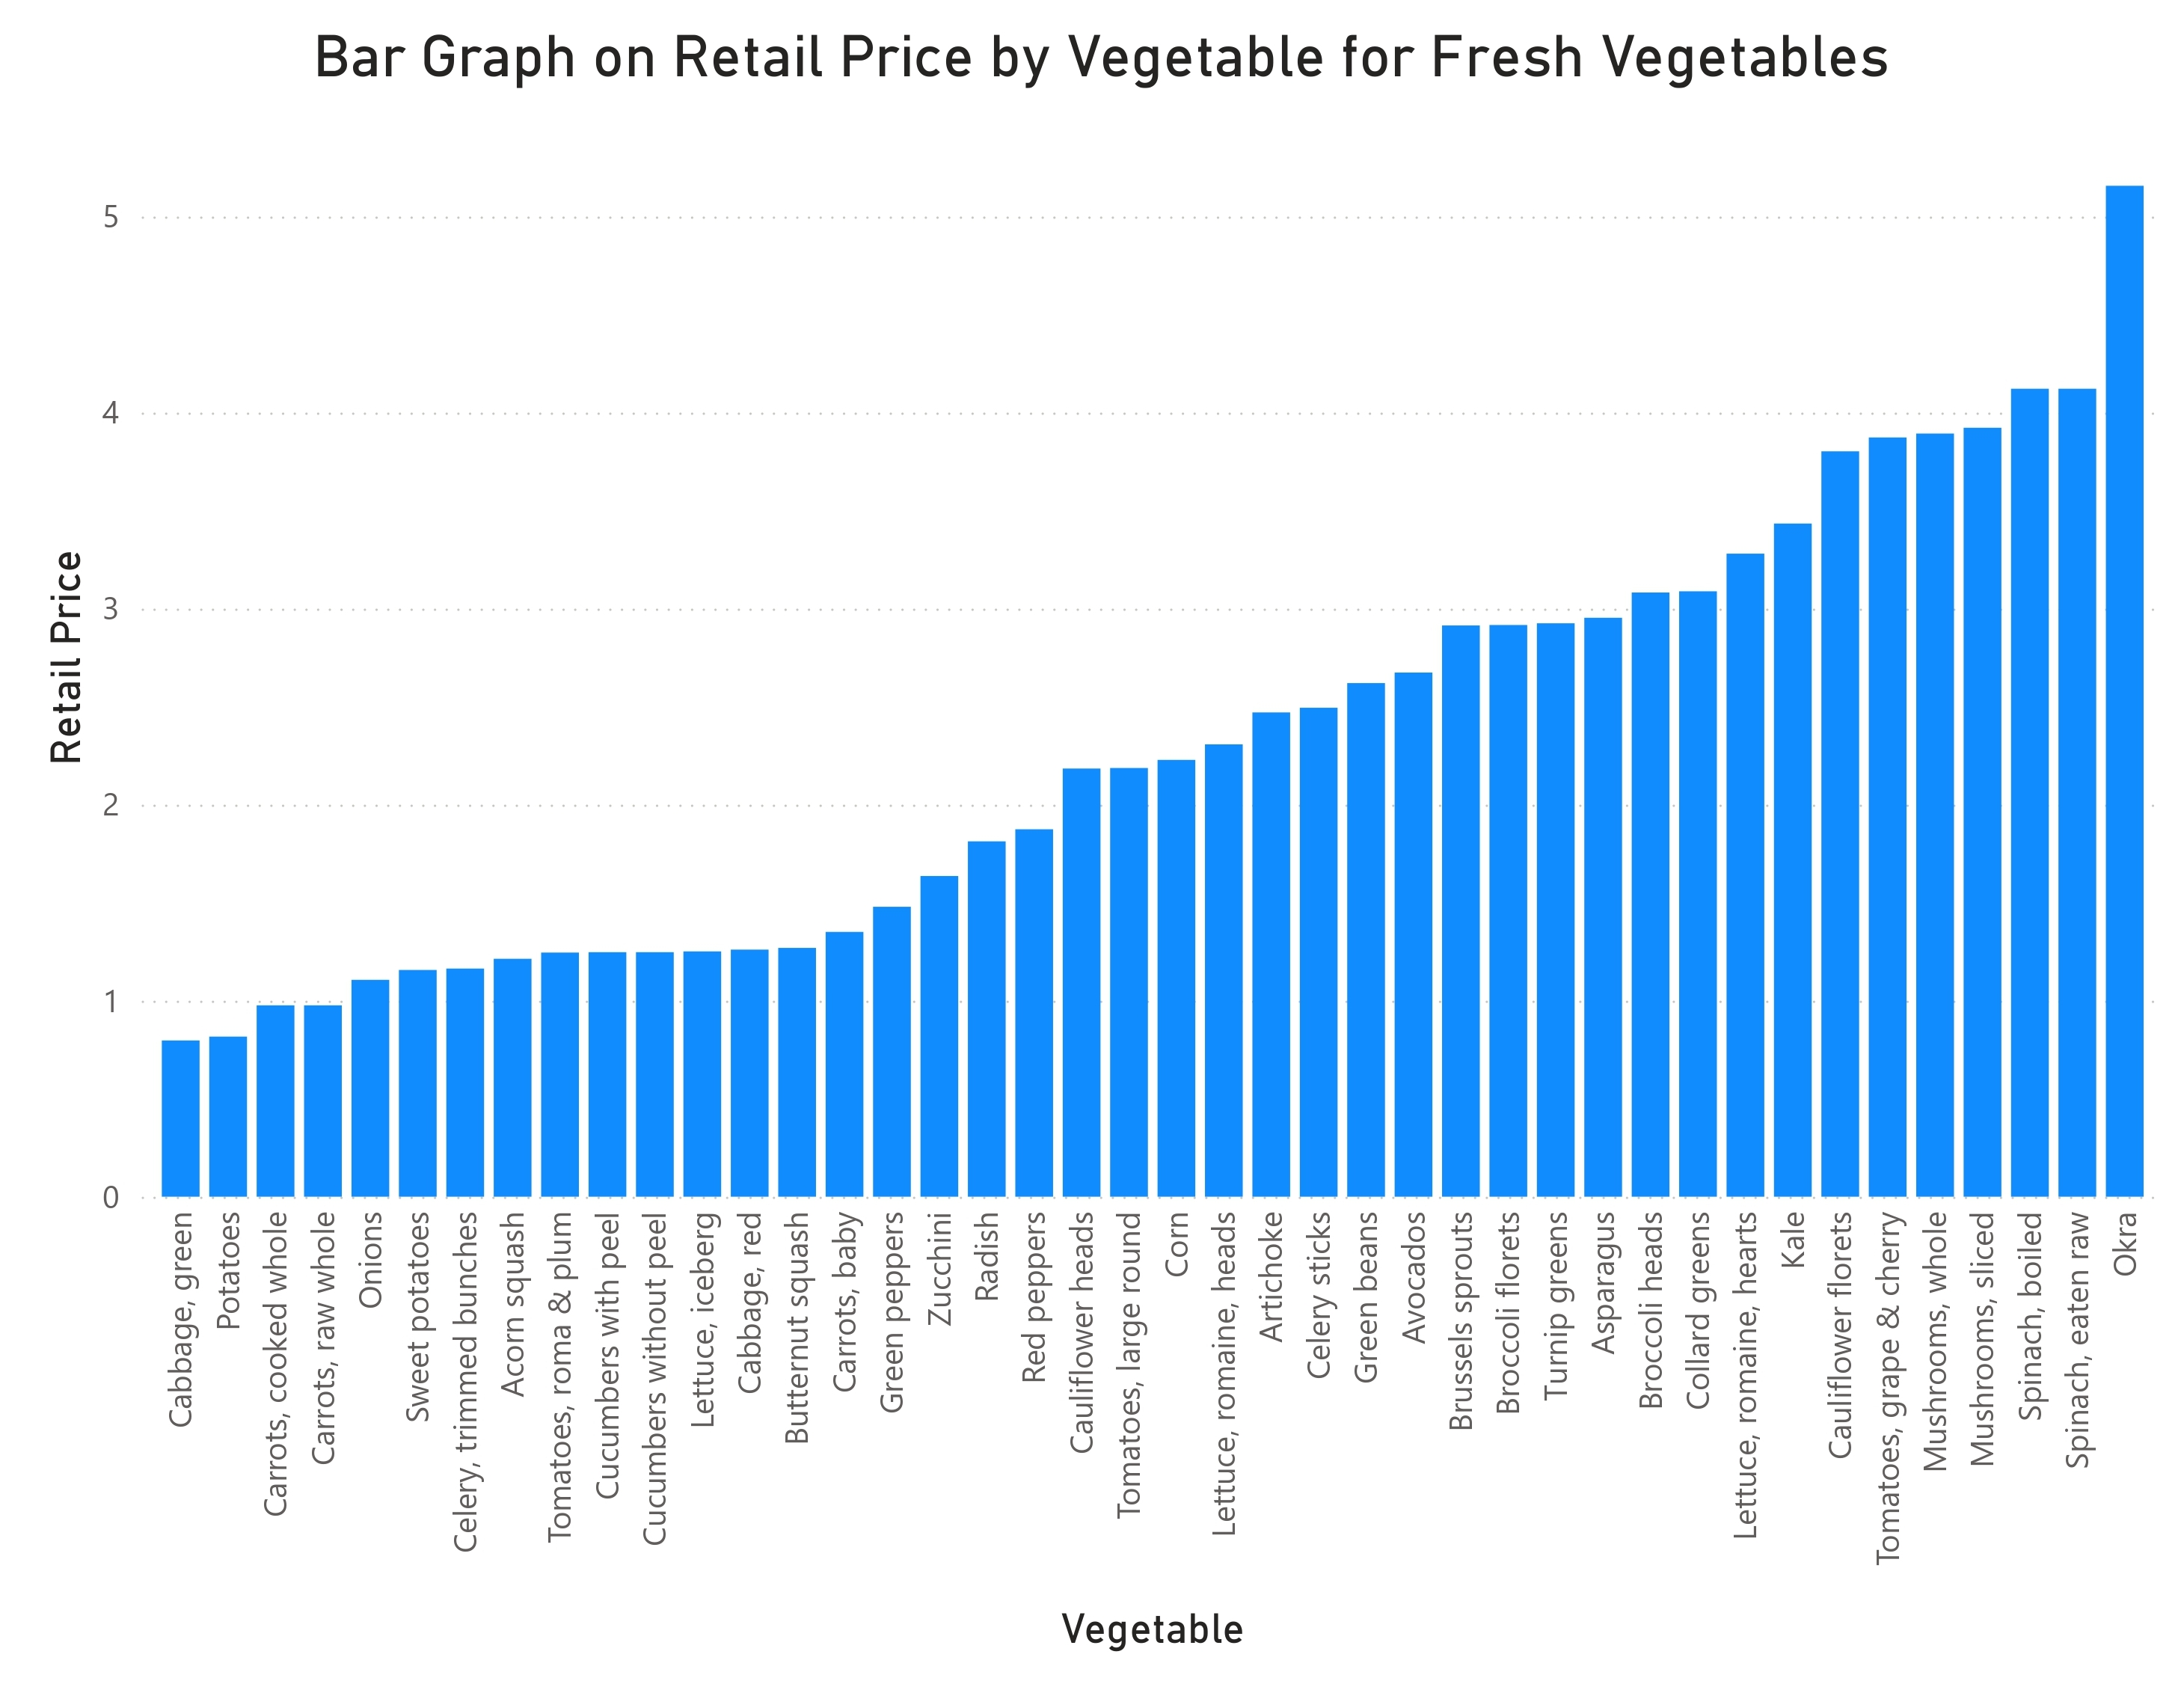

This screenshot's page, from the dashboard's own definition file:
{"tool":"powerbi","page":{"name":"Fresh Vegetables","canvas":[1280,720],"ordinal":1},"visuals":[{"type":"textbox","box":[167.5,6.5,942.9,59.7],"z":0},{"type":"columnChart","fields":{"Category":["price_order_fresh.Vegetable","price_order_fresh.Vegetable"],"Y":["Avg(price_order_fresh.Retail Price)"],"Series":["price_order_fresh.Vegetable"]},"box":[0,68.8,1280.5,650.6],"z":1000}]}

Visuals, with their boxes in screenshot pixels (x1, y1, x2, y2):
textbox: 156,0,1800,47
columnChart - price_order_fresh.Vegetable x price_order_fresh.Vegetable: 0,52,2097,1187
